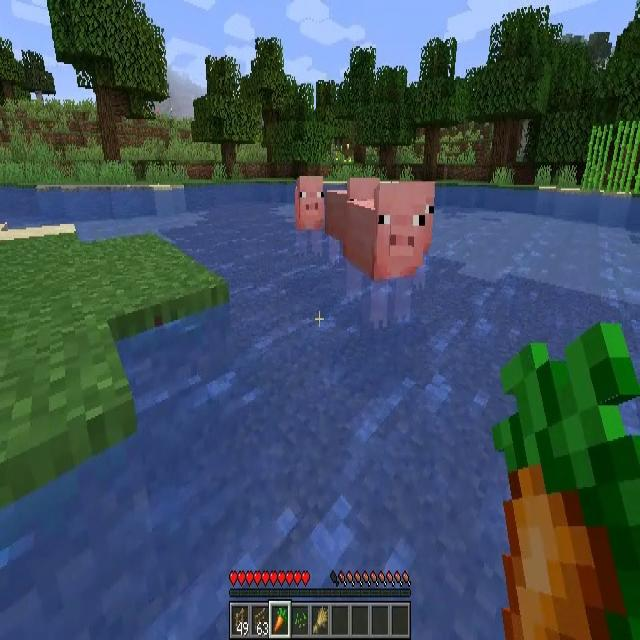pig: (347, 182, 435, 329), (324, 178, 380, 260), (294, 174, 324, 260)
